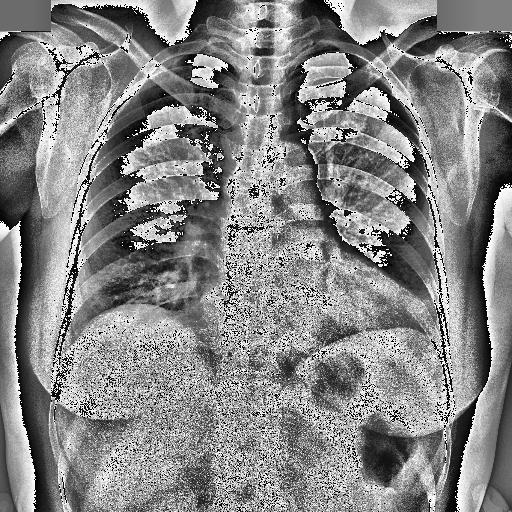0- Aortic enlargement: (257, 136, 323, 216), (262, 140, 324, 214), (260, 140, 320, 200)
3- Cardiomegaly: (175, 269, 419, 349), (194, 275, 431, 354), (190, 274, 430, 342)
